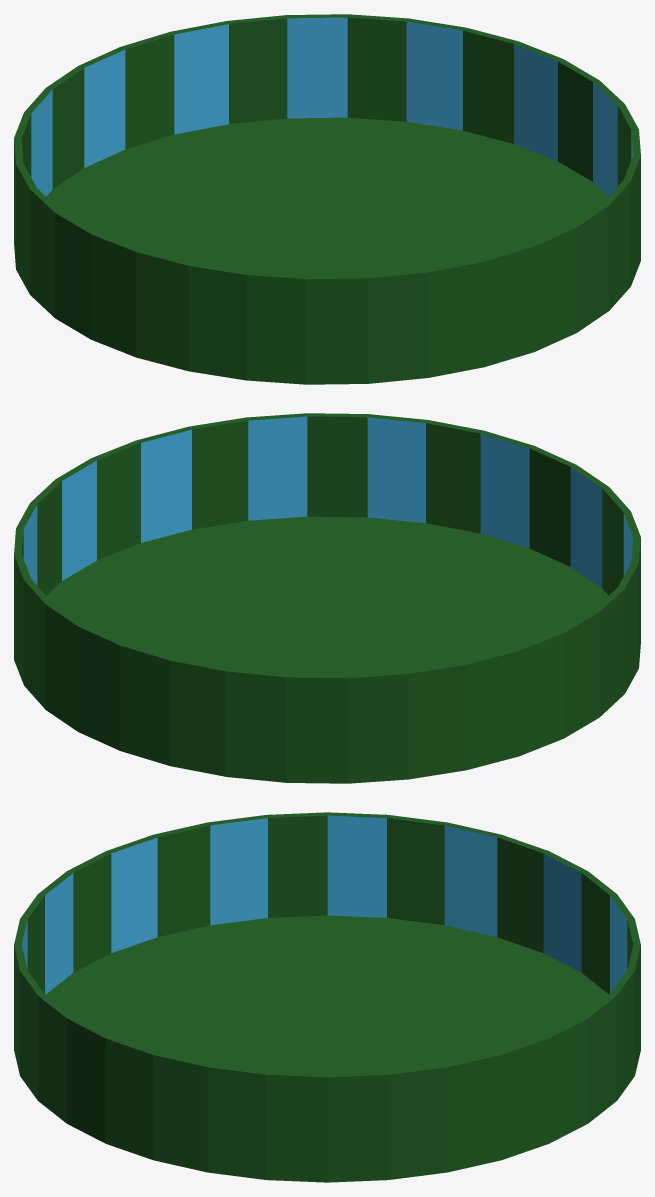
Rendered from prototypeBiome.glb.
3 renders of one model, top to bottom at view 1: azimuth 30°, elevation 25°; view 2: azimuth 150°, elevation 25°; view 3: azimuth 270°, elevation 25°, orthographic.
Visible parts, largest first — view 1: Cylinder; view 2: Cylinder; view 3: Cylinder.
Part boxes in pixels (<box>): Cylinder: <box>14,14,640,384</box>; Cylinder: <box>14,413,640,783</box>; Cylinder: <box>14,812,640,1182</box>.
Size of the model in its own units: 49.83 by 9.23 by 49.83.
